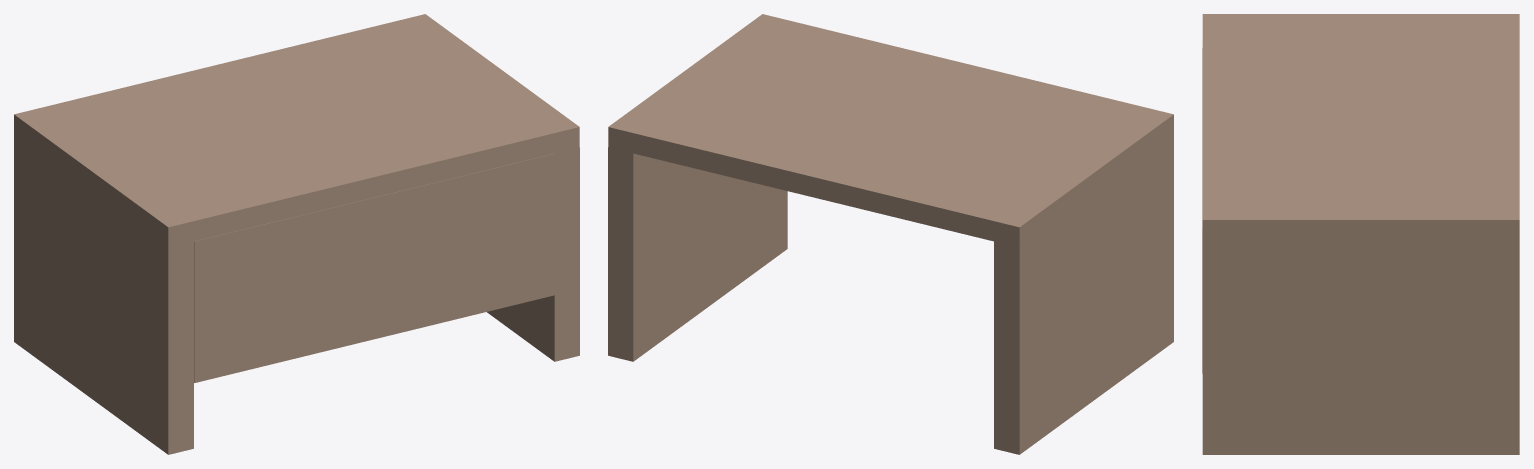
Rendered from Desk_002.fbx.
The picture shows the model from 3 angles, left to right: view 1: azimuth 30°, elevation 25°; view 2: azimuth 150°, elevation 25°; view 3: azimuth 270°, elevation 25°; orthographic projection. The views are drawn at different scales.
Visible parts, largest first — view 1: Desk_002; view 2: Desk_002; view 3: Desk_002.
Part boxes in pixels (x1,y1,x2,y2): Desk_002: (14,14,579,454); Desk_002: (608,14,1173,454); Desk_002: (1202,14,1519,454).
Size of the model in its own units: 178 by 94.58 by 116.
